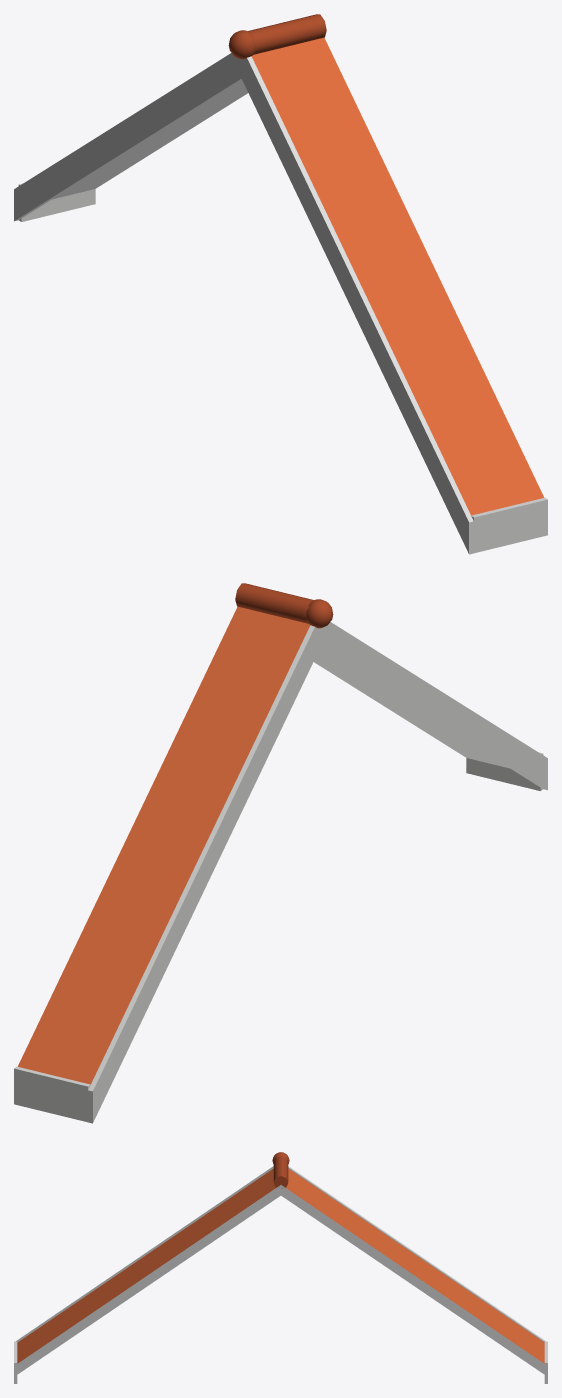
The model's file is telhado_empena_v4_i75.glb.
The picture shows the model from 3 angles, top to bottom: view 1: azimuth 30°, elevation 25°; view 2: azimuth 150°, elevation 25°; view 3: azimuth 270°, elevation 25°; orthographic projection. The views are drawn at different scales.
Parts seen in each view (by area): view 1: telhado_empena_v4_i75; view 2: telhado_empena_v4_i75; view 3: telhado_empena_v4_i75.
Boxes of the visible parts, x1,y1,x2,y2 form: telhado_empena_v4_i75: [14, 14, 547, 554]; telhado_empena_v4_i75: [14, 583, 547, 1123]; telhado_empena_v4_i75: [14, 1152, 547, 1383].
Bounding box in the file's own units: 0.57 × 2.16 × 5.
